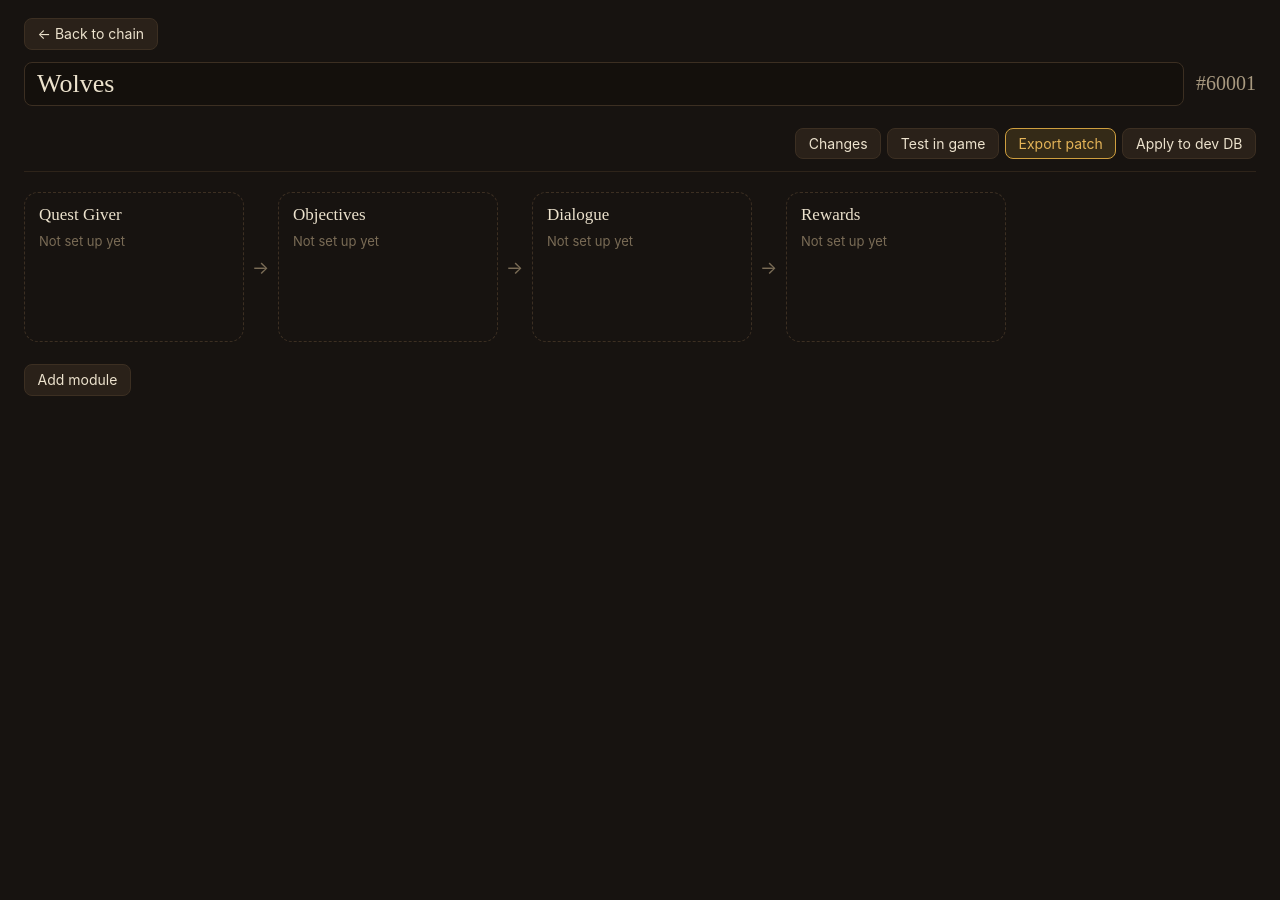
Test: Apply to dev DB › shows the SQL and applies only after confirmation
Click the button "Apply to dev DB": (1189, 143) [1122,128,1256,159]
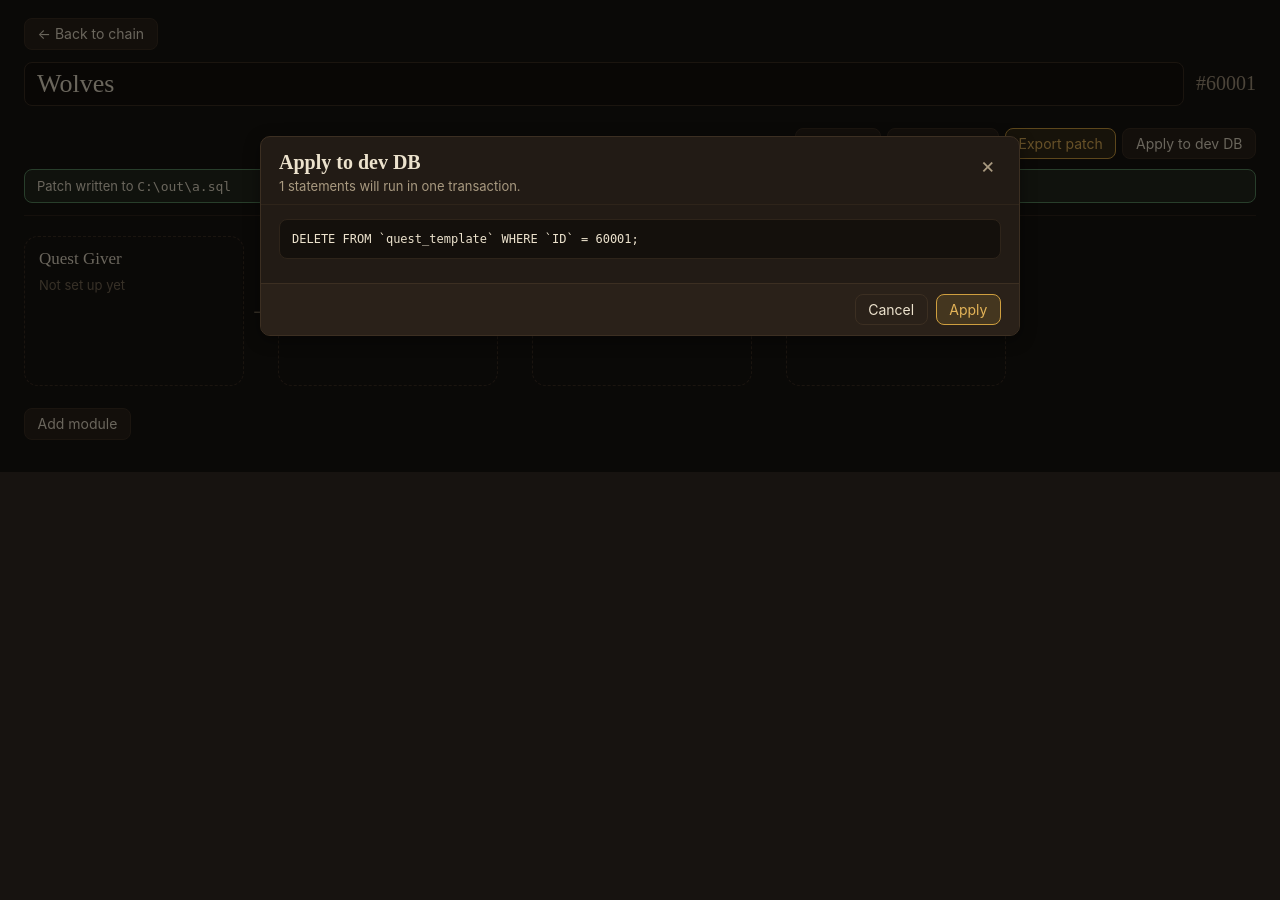
Now the text "DELETE FROM `quest_template` WHERE `ID` = 60001;" is shown, box [279,219,1001,259]
Click the button "Apply": (968, 309) [936,294,1001,325]
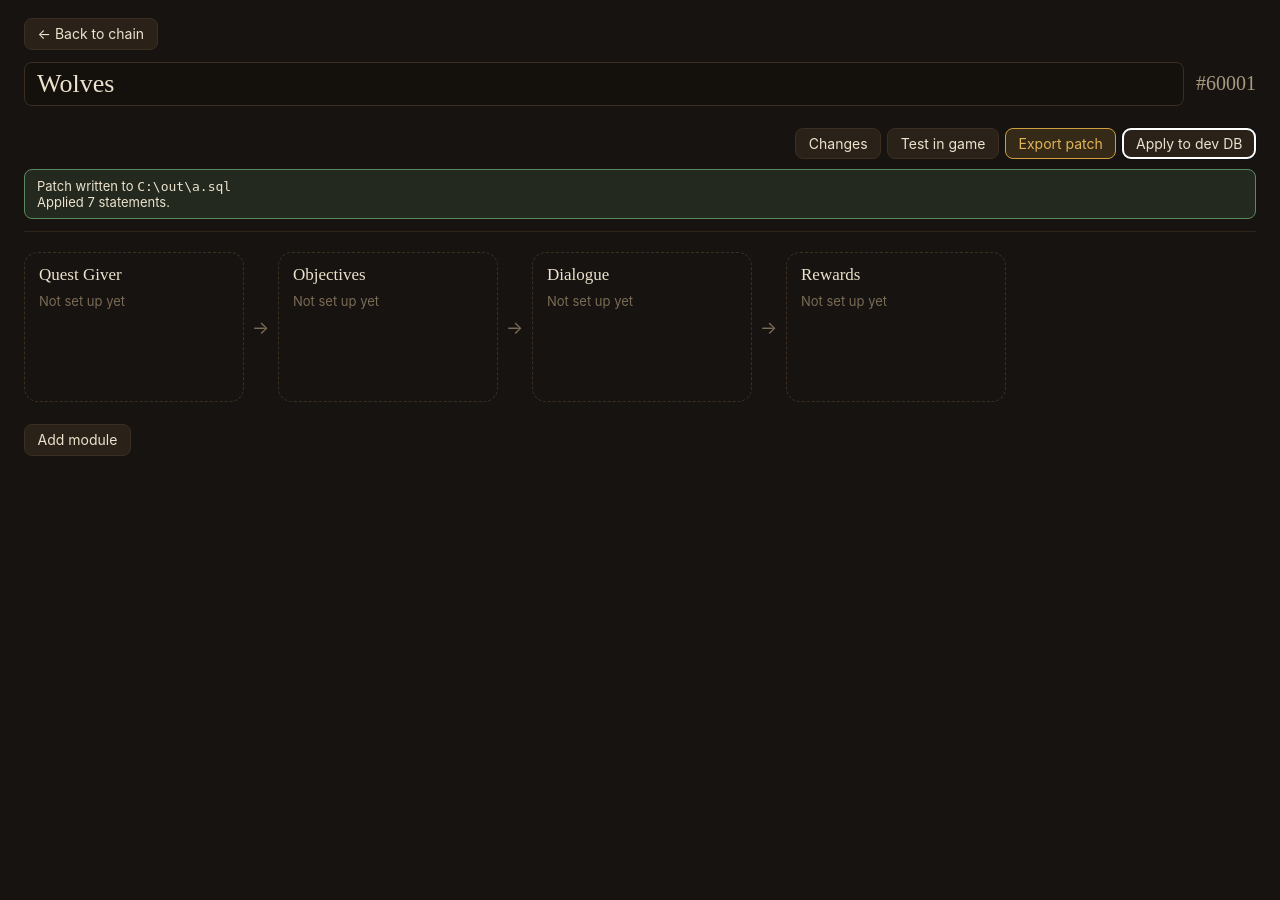
Now the text "Applied 7 statements." is shown, box [37,194,170,210]
